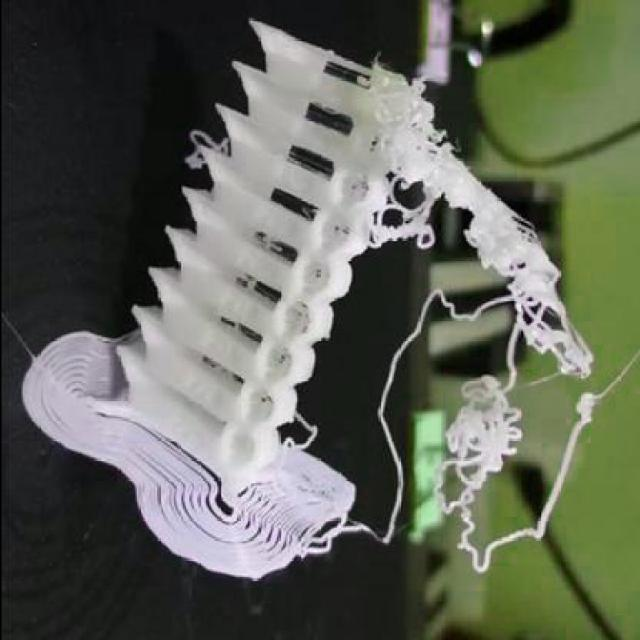spaghetti: (367, 77, 598, 571), (298, 507, 367, 563), (276, 405, 324, 465), (182, 130, 236, 175), (252, 233, 286, 256), (236, 272, 259, 294)
